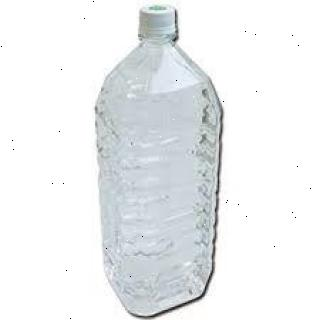Plastic-bottle: (94, 4, 227, 320)
